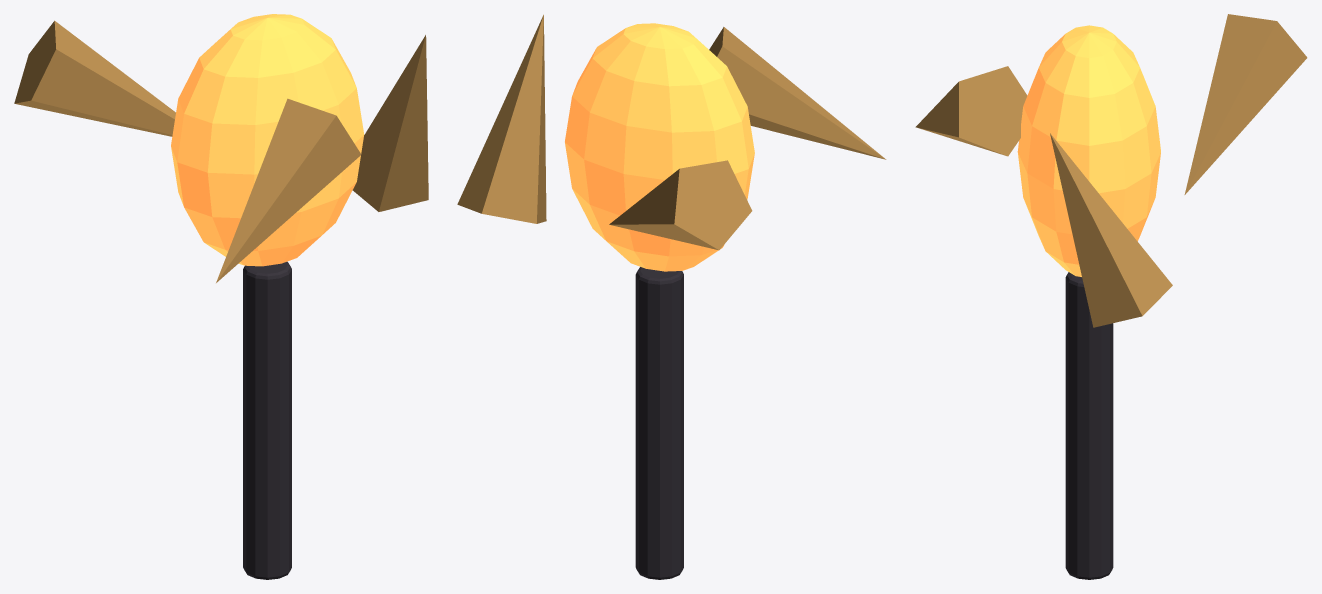
Rendered from cinder_focus.glb.
3 renders of one model, left to right at view 1: azimuth 30°, elevation 25°; view 2: azimuth 150°, elevation 25°; view 3: azimuth 270°, elevation 25°, orthographic. The views are drawn at different scales.
Parts seen in each view (by area): view 1: CinderFocus_Core, CinderFocus_Grip, CinderFocus_Shard.002, CinderFocus_Shard.001, CinderFocus_Shard; view 2: CinderFocus_Core, CinderFocus_Grip, CinderFocus_Shard, CinderFocus_Shard.001, CinderFocus_Shard.002; view 3: CinderFocus_Core, CinderFocus_Grip, CinderFocus_Shard, CinderFocus_Shard.001, CinderFocus_Shard.002.
Part boxes in pixels (x1,y1,x2,y2): CinderFocus_Core: (171,14,364,266); CinderFocus_Grip: (243,261,291,579); CinderFocus_Shard.002: (216,98,361,282); CinderFocus_Shard.001: (14,20,175,136); CinderFocus_Shard: (352,35,428,211); CinderFocus_Core: (565,23,754,271); CinderFocus_Grip: (635,267,683,579); CinderFocus_Shard: (457,14,546,223); CinderFocus_Shard.001: (609,160,752,250); CinderFocus_Shard.002: (709,27,886,159); CinderFocus_Core: (1017,25,1160,276); CinderFocus_Grip: (1065,272,1113,579); CinderFocus_Shard: (1050,133,1172,327); CinderFocus_Shard.001: (1184,14,1307,194); CinderFocus_Shard.002: (915,66,1027,156).
Bounding box in the file's own units: 0.647 × 0.995 × 0.6564.
